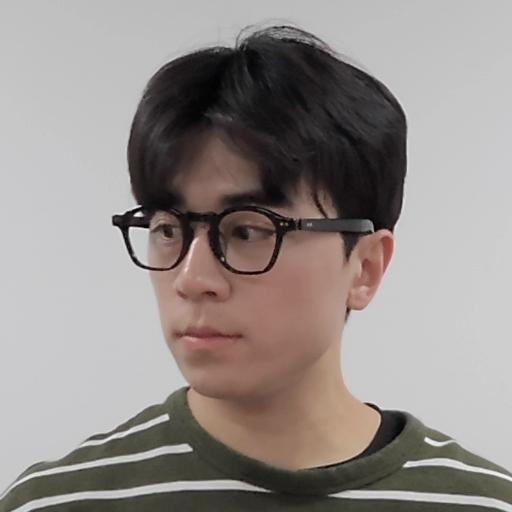no_glasses: (114, 27, 413, 395)
